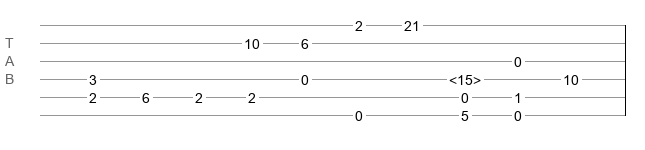0: (301, 72, 309, 82), (355, 108, 363, 118), (461, 90, 469, 100), (514, 108, 522, 118), (514, 54, 522, 64)
1: (514, 90, 522, 100)
10: (244, 36, 260, 46), (563, 72, 579, 82)
2: (89, 90, 97, 100), (195, 90, 203, 100), (248, 90, 256, 100), (355, 18, 363, 28)
21: (404, 18, 420, 28)
3: (89, 72, 97, 82)
5: (461, 108, 469, 118)
6: (142, 90, 150, 100), (301, 36, 309, 46)
harmonic: (449, 72, 481, 82)
